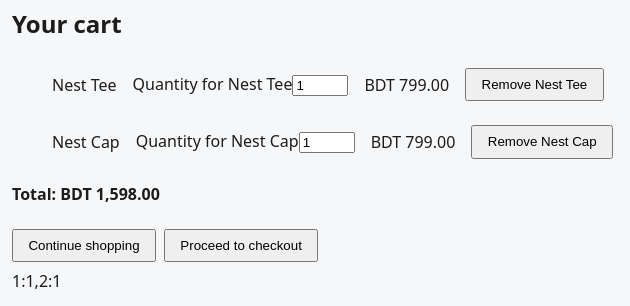
Test: QuantityInput inside the cart › F8: only the Remove button removes a line
Note: Editing a quantity never removes its line, even when the box is emptied.
Clear the number field labelled "Quantity for Nest Tee" at (320, 86), box [292,75,348,96]
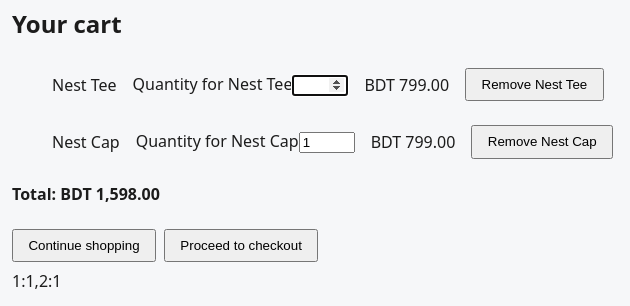
Expected: the text "Nest Tee" is shown, [52,74,117,96]
Click the button "Remove Nest Tee" at (534, 84), box [465,68,604,101]
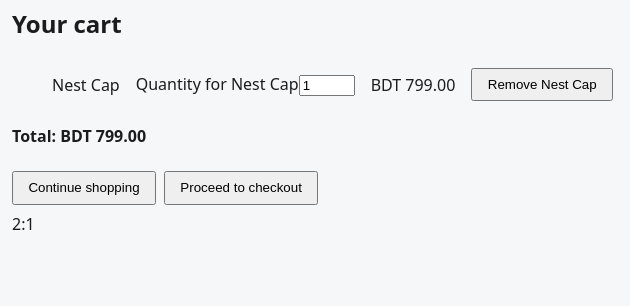
Expected: the text "Nest Cap" is shown, [52,74,120,96]
Result: the text "Nest Tee" is gone
Result: the text with test id "committed" reads "2:1" at [12,213,35,235]
